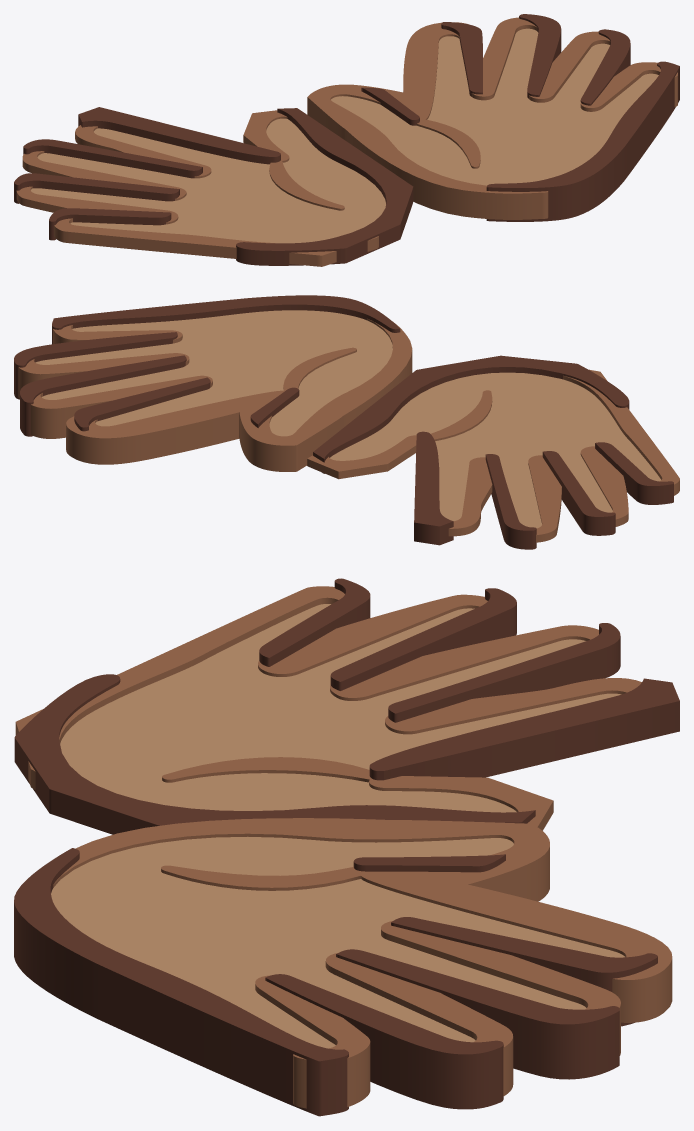
The model's file is emoji_u1f450_1f3fd.glb.
3 views of the same model, one above another, from view 1: azimuth 30°, elevation 25°; view 2: azimuth 150°, elevation 25°; view 3: azimuth 270°, elevation 25° (orthographic). The views are drawn at different scales.
Parts seen in each view (by area): view 1: emoji_u1f450_1f3fd; view 2: emoji_u1f450_1f3fd; view 3: emoji_u1f450_1f3fd.
Part boxes in pixels (<box>): emoji_u1f450_1f3fd: <box>14,14,679,266</box>; emoji_u1f450_1f3fd: <box>14,295,679,549</box>; emoji_u1f450_1f3fd: <box>14,578,679,1116</box>.
Size of the model in its own units: 0.0347 by 0.0018 by 0.0197.
